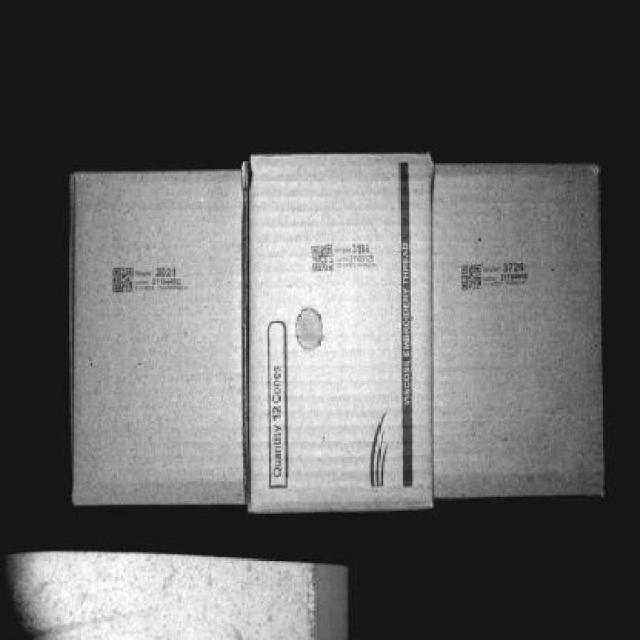box: (257, 153, 432, 510), (80, 176, 246, 507), (438, 166, 602, 500)
